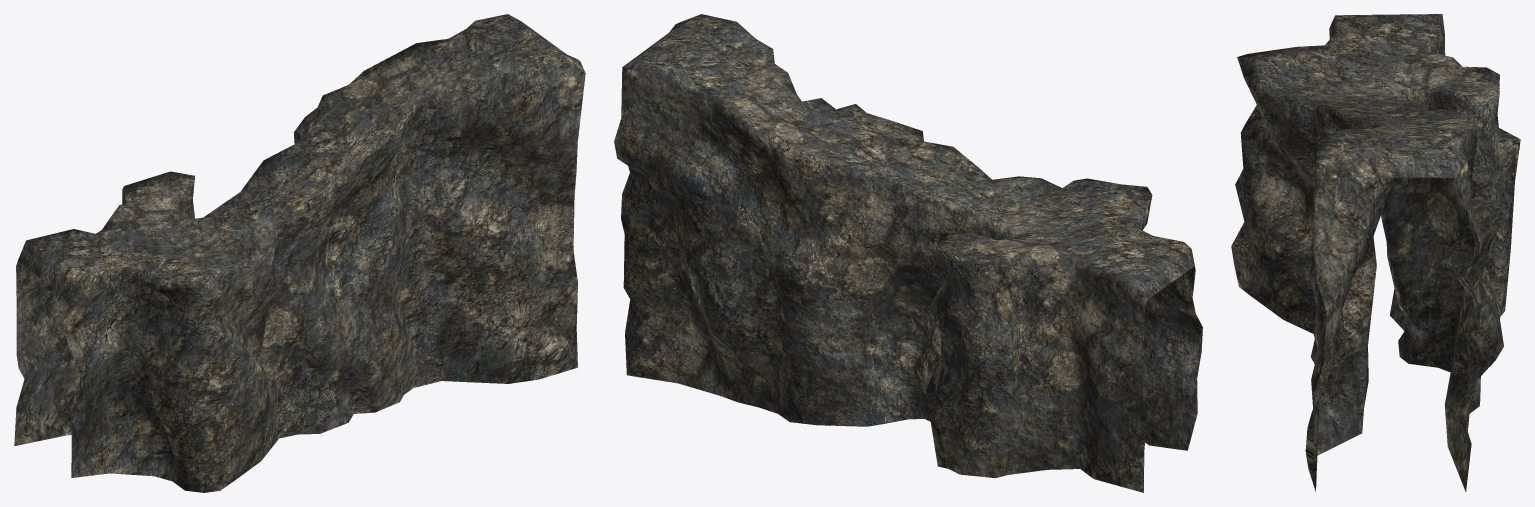
The model's file is Module14B_LOD1.fbx.
The picture shows the model from 3 angles, left to right: view 1: azimuth 30°, elevation 25°; view 2: azimuth 150°, elevation 25°; view 3: azimuth 270°, elevation 25°; orthographic projection. The views are drawn at different scales.
Visible parts, largest first — view 1: cave_el14B_1800_Group49530; view 2: cave_el14B_1800_Group49530; view 3: cave_el14B_1800_Group49530.
Boxes of the visible parts, x1=… form: cave_el14B_1800_Group49530: x1=14, y1=14, x2=585, y2=492; cave_el14B_1800_Group49530: x1=614, y1=14, x2=1202, y2=492; cave_el14B_1800_Group49530: x1=1231, y1=14, x2=1520, y2=492.
Bounding box in the file's own units: 53.41 × 31.21 × 24.21.
